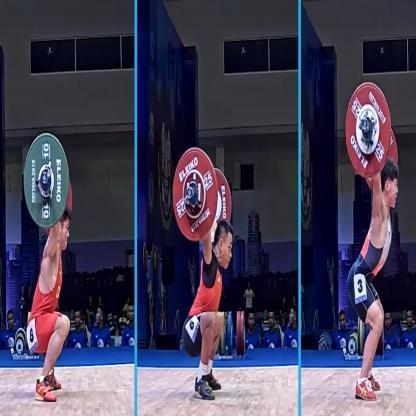barbell: (171, 148, 231, 240), (345, 83, 399, 180), (22, 133, 74, 229)
